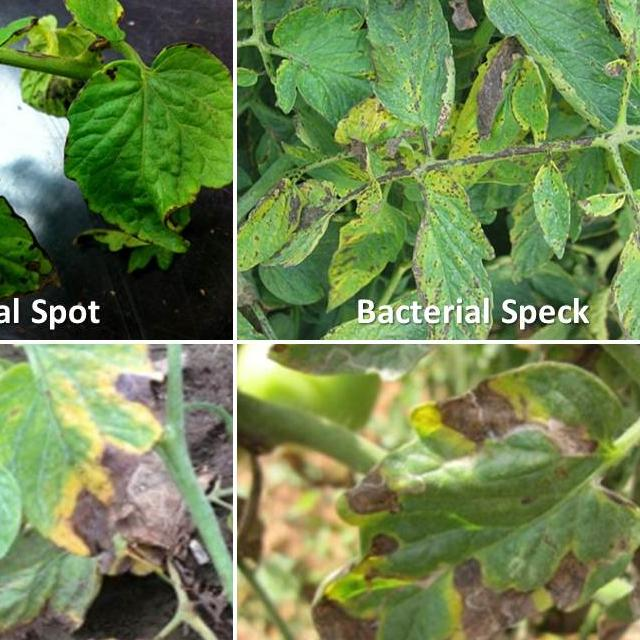Tomato Early blight leaf: (0, 355, 179, 640), (36, 51, 231, 282), (486, 0, 640, 177), (395, 147, 502, 335), (352, 0, 466, 153), (0, 53, 55, 321), (571, 179, 640, 332), (520, 140, 591, 257), (505, 47, 556, 138)
